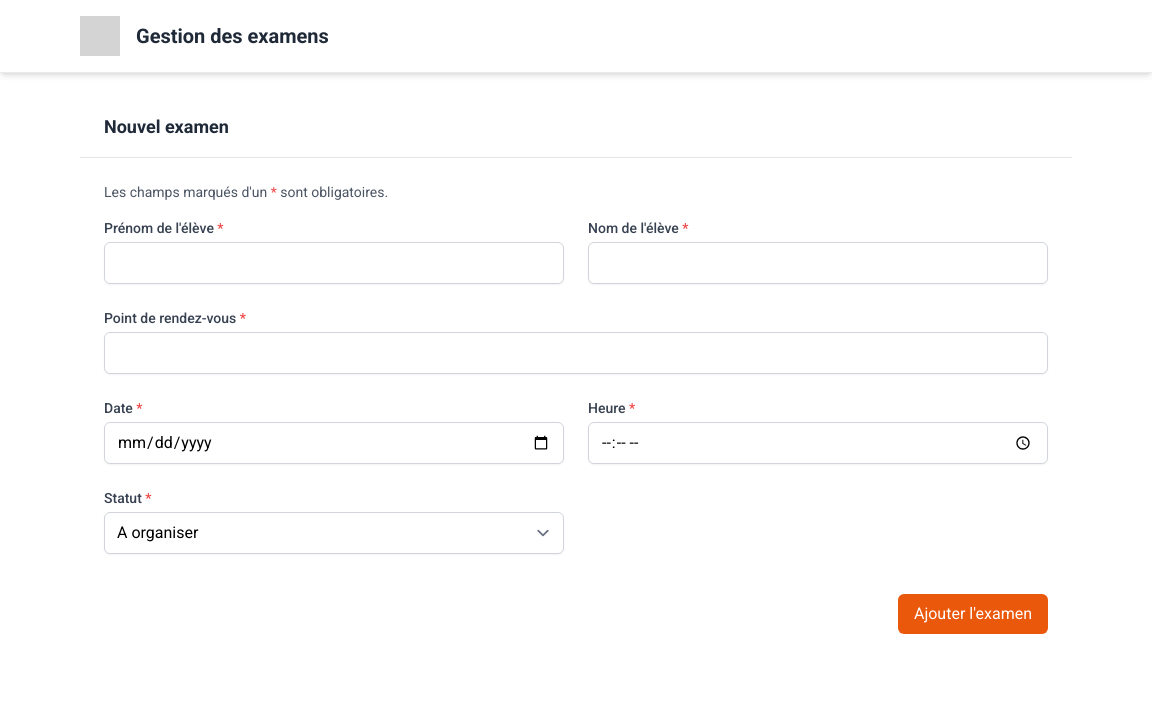
Exam Management Workflow › should show validation errors
This screenshot has width=1152, height=720.
// Try to submit empty form
Click the submit button at (973, 614), box x1=898 y1=594 x2=1048 y2=634
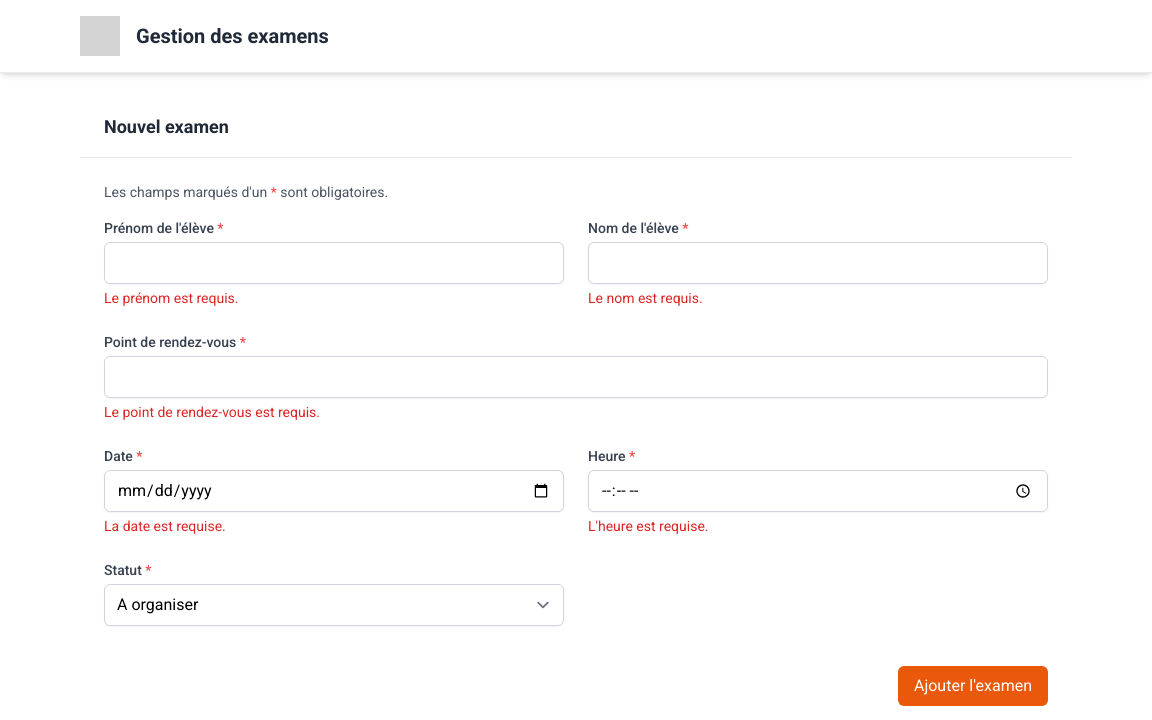
Expected: the text "Le prénom est requis." is shown, x1=104 y1=290 x2=238 y2=306
Expected: the text "Le prénom est requis" is shown, x1=104 y1=290 x2=239 y2=306
Expected: the text "Le nom est requis" is shown, x1=588 y1=290 x2=703 y2=306
